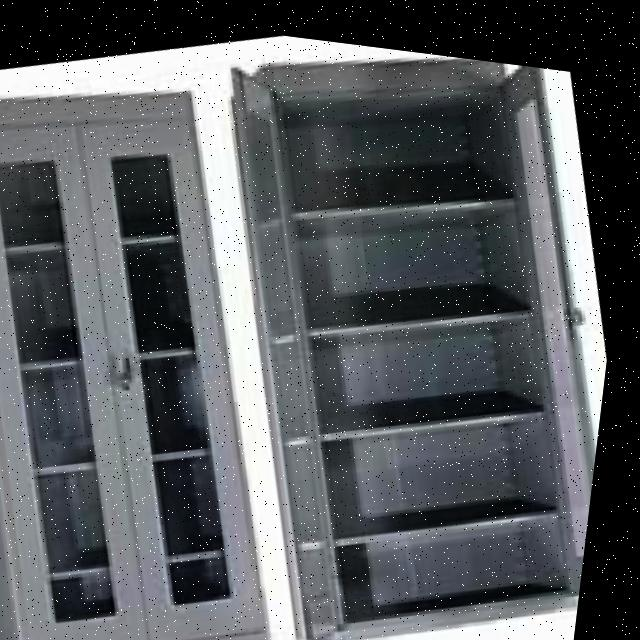dolap: (167, 22, 640, 640), (0, 48, 338, 640)
